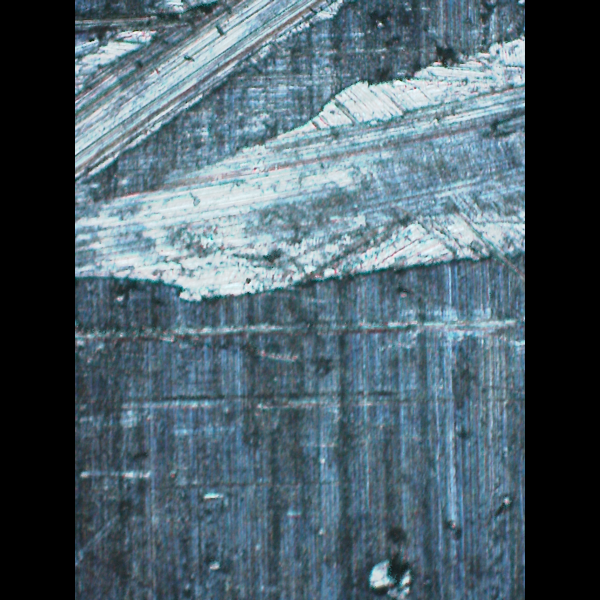d: (77, 0, 524, 315), (358, 529, 421, 599)
